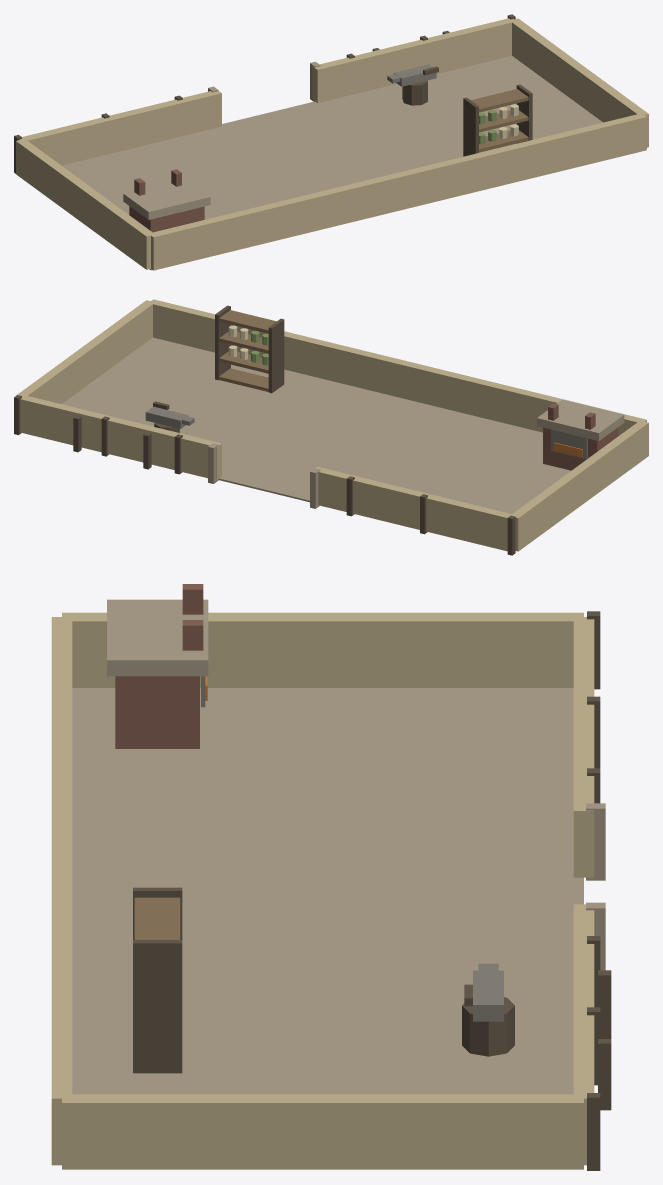
File: WalkTown_Forge_Structure.fbx
3 renders of one model, top to bottom at view 1: azimuth 30°, elevation 25°; view 2: azimuth 150°, elevation 25°; view 3: azimuth 270°, elevation 25°, orthographic. The views are drawn at different scales.
Parts seen in each view (by area): view 1: WalkTown_Forge_Structure; view 2: WalkTown_Forge_Structure; view 3: WalkTown_Forge_Structure.
Part boxes in pixels (x1,y1,x2,y2): WalkTown_Forge_Structure: (14, 14, 648, 270); WalkTown_Forge_Structure: (14, 299, 648, 555); WalkTown_Forge_Structure: (51, 584, 611, 1170).
Size of the model in its own units: 15.78 by 2 by 7.61.
